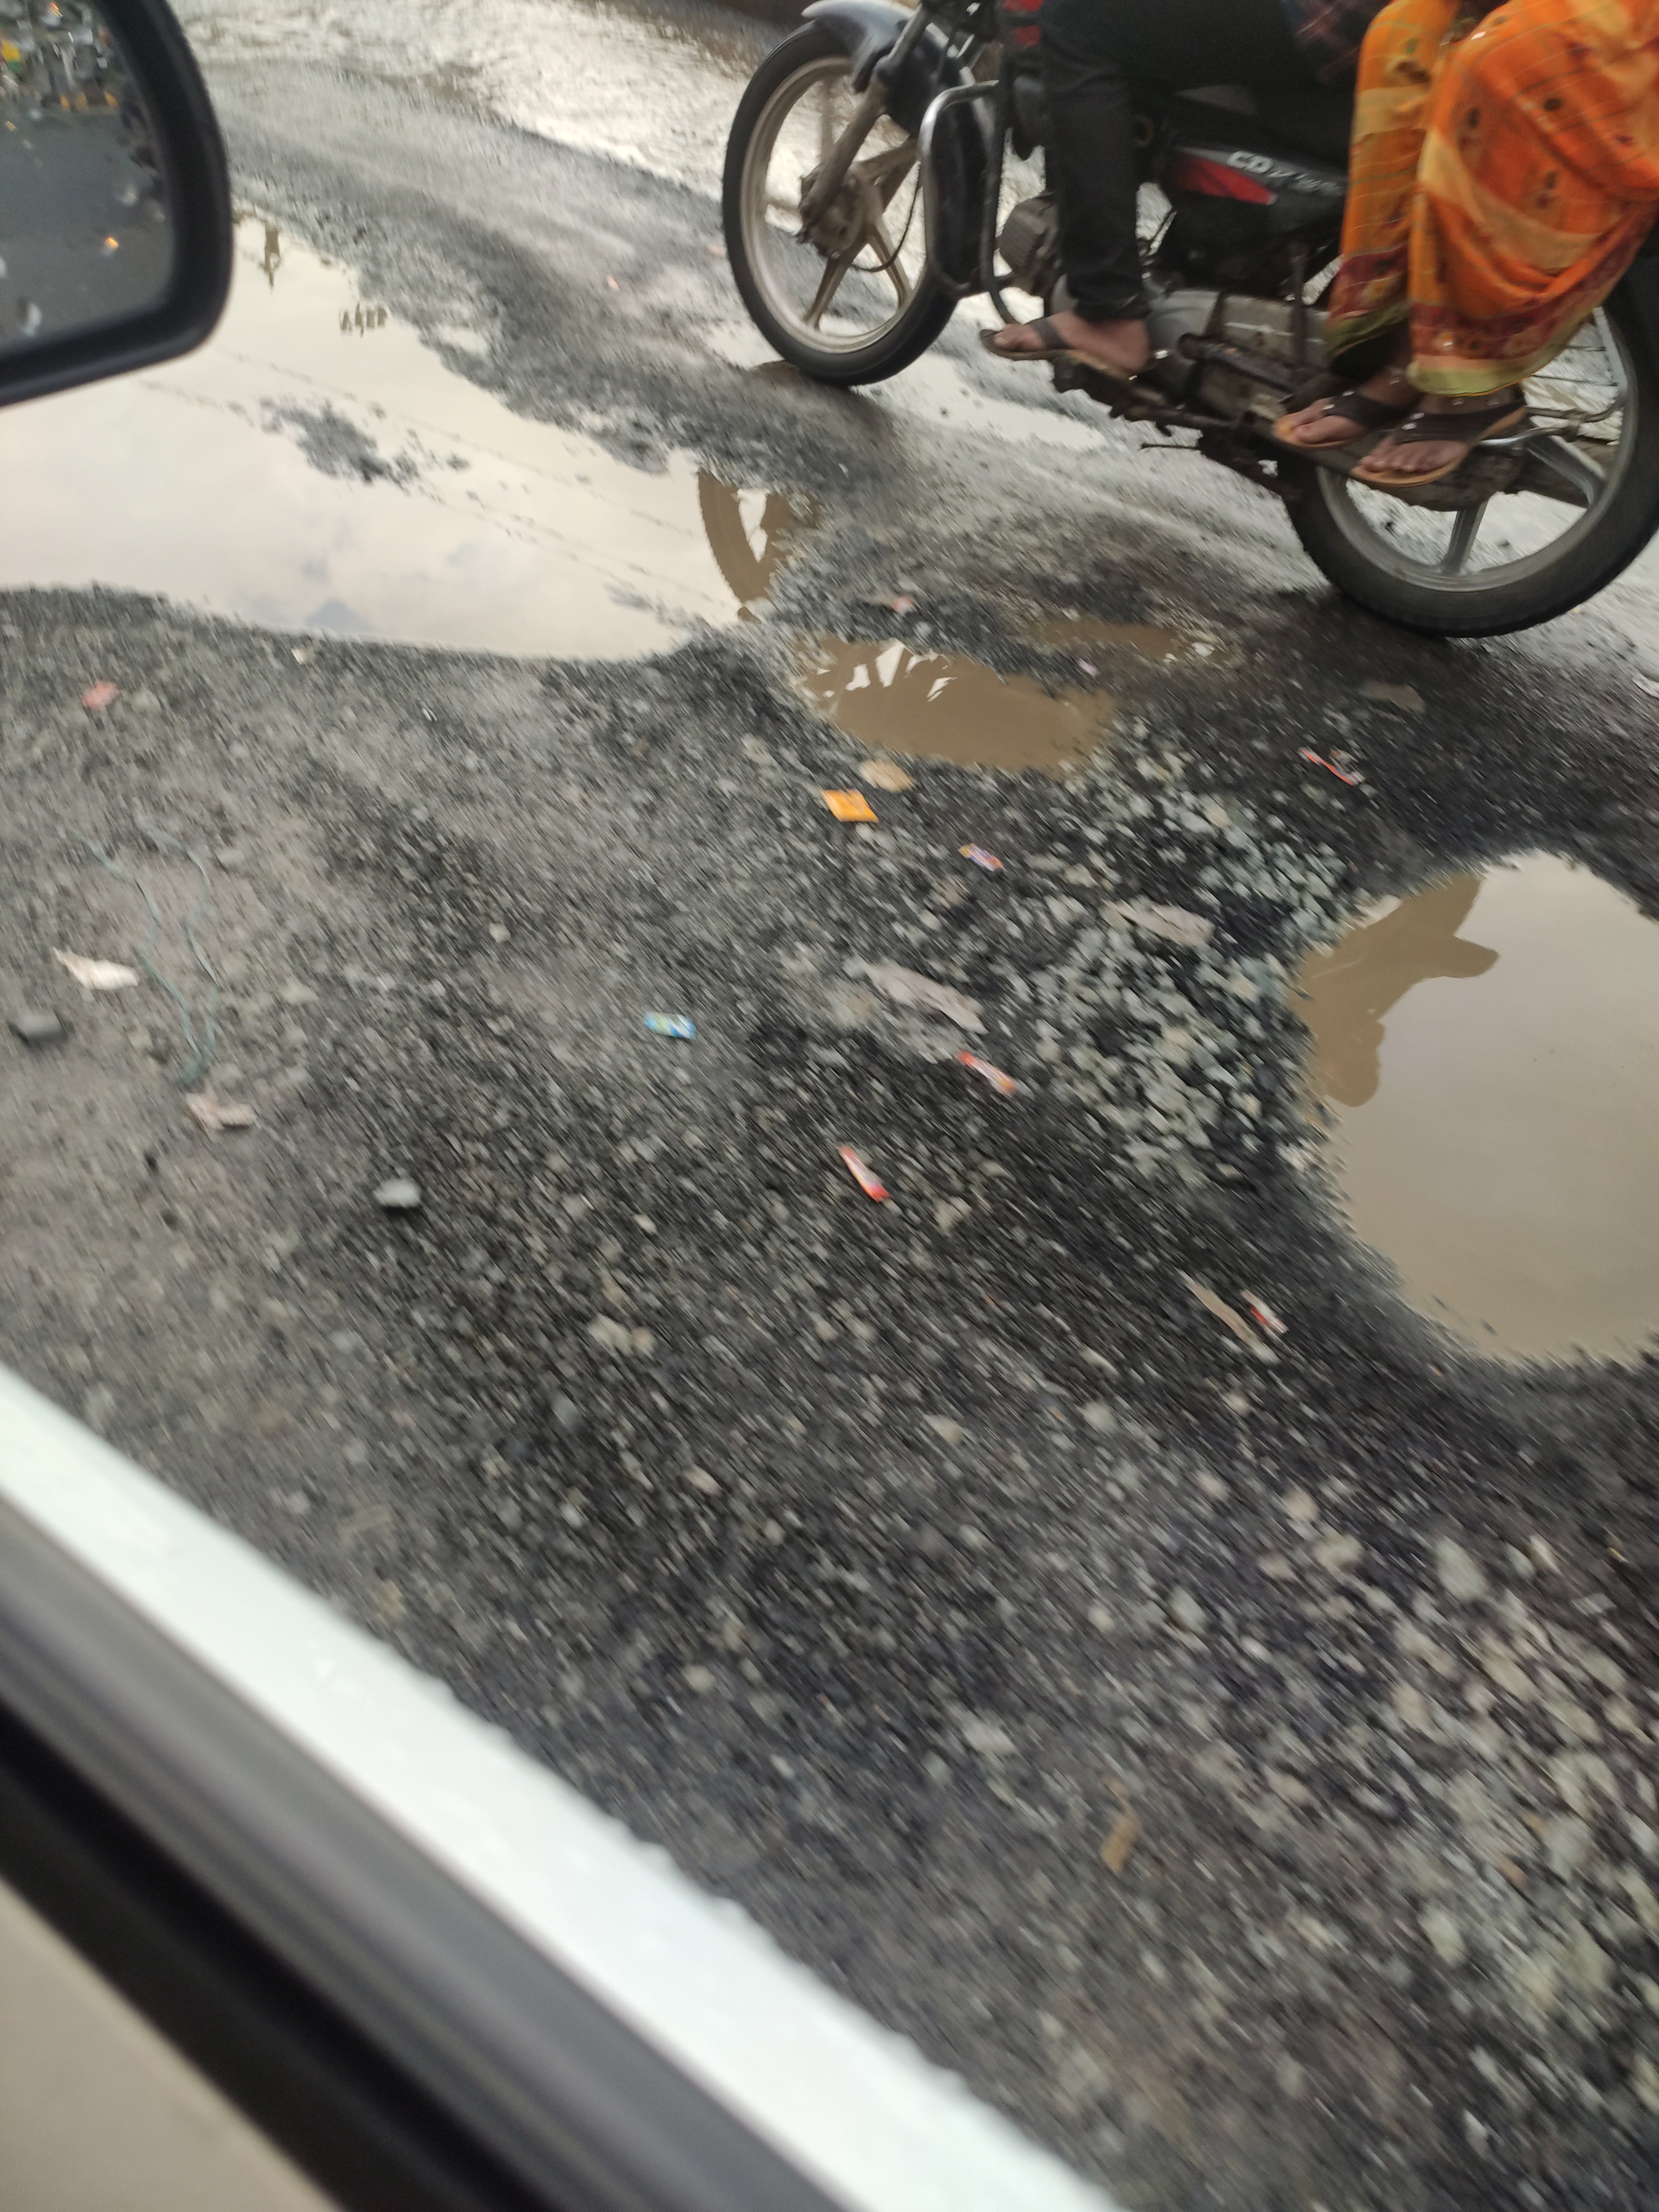potholes: (0, 192, 1173, 817), (1232, 820, 1659, 1426)
